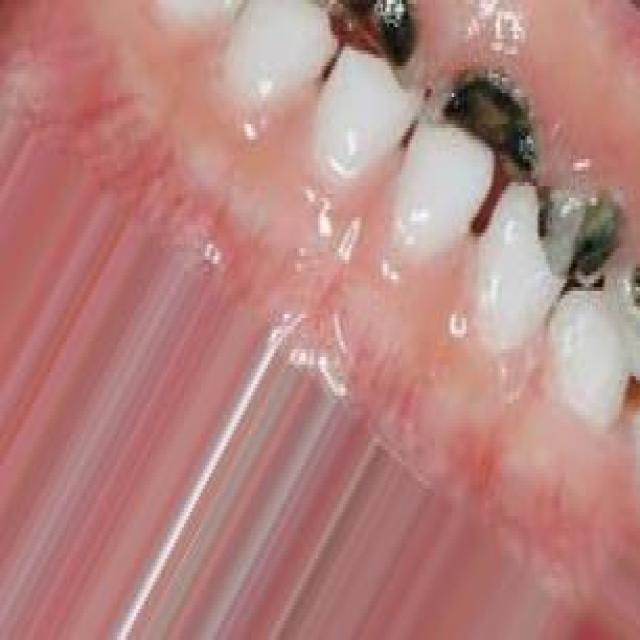caries: (431, 46, 536, 194), (537, 165, 624, 294), (320, 0, 426, 100)
